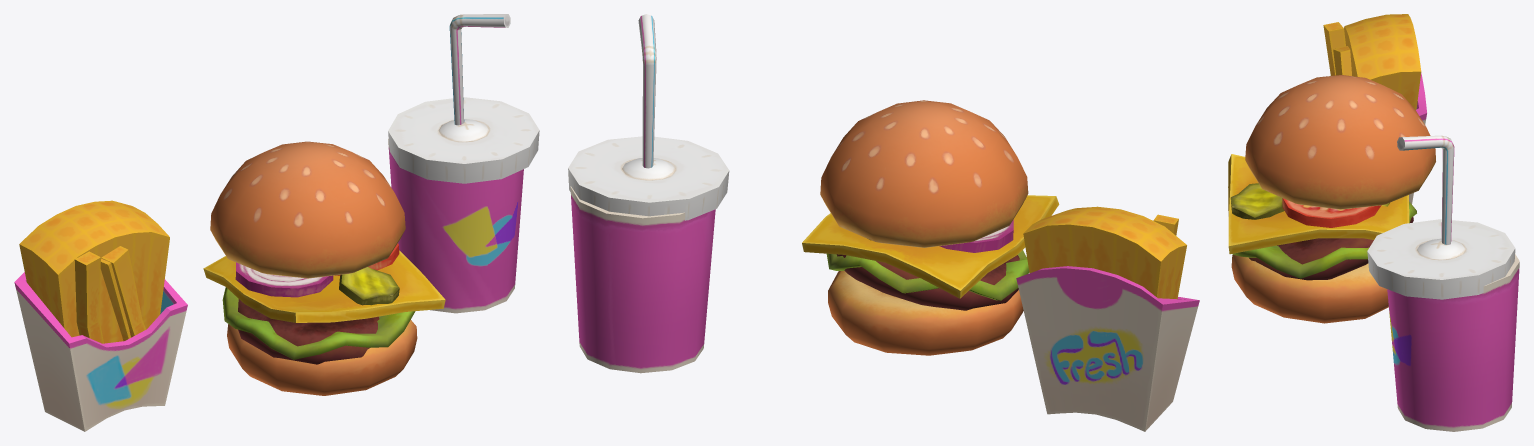
File: TestAR02.gltf
The picture shows the model from 3 angles, left to right: view 1: azimuth 30°, elevation 25°; view 2: azimuth 150°, elevation 25°; view 3: azimuth 270°, elevation 25°; orthographic projection. The views are drawn at different scales.
Parts seen in each view (by area): view 1: pBurger_Bun_Top, pCup_Main, pFries_Box, pFries_Main, pCup_Top, pBurger_Cheese, pBurger_Bun_Base, pBurger_Salad, pBurger_Patty, pFries_Single2, pCup_Straw, pBurger_Onion (+3 smaller); view 2: pBurger_Bun_Top, pFries_Box, pCup_Main, pCup_Top, pFries_Main, pBurger_Bun_Base, pBurger_Cheese, pBurger_Patty, pBurger_Salad, pCup_Straw, pBurger_Onion; view 3: pBurger_Bun_Top, pCup_Main, pCup_Top, pBurger_Bun_Base, pBurger_Cheese, pFries_Main, pBurger_Patty, pBurger_Salad, pCup_Straw, pBurger_Tomato, pBurger_Pickle2, pFries_Single2 (+2 smaller).
Boxes of the visible parts, x1,y1,x2,y2 form: pBurger_Bun_Top: (210, 141, 405, 278); pCup_Main: (388, 139, 523, 313); pFries_Box: (14, 272, 187, 431); pFries_Main: (19, 200, 169, 343); pCup_Top: (388, 97, 539, 183); pBurger_Cheese: (203, 250, 445, 322); pBurger_Bun_Base: (227, 320, 417, 395); pBurger_Salad: (222, 287, 415, 359); pBurger_Patty: (238, 299, 379, 364); pFries_Single2: (74, 251, 103, 343); pCup_Straw: (449, 14, 510, 125); pBurger_Onion: (235, 262, 333, 297); pBurger_Bun_Top: (820, 100, 1028, 247); pFries_Box: (1016, 266, 1199, 431); pCup_Main: (570, 186, 715, 373); pCup_Top: (568, 136, 729, 220); pFries_Main: (1023, 206, 1186, 299); pBurger_Bun_Base: (828, 271, 1023, 355); pBurger_Cheese: (802, 195, 1059, 298); pBurger_Patty: (836, 254, 1019, 310); pBurger_Salad: (826, 250, 1029, 300); pCup_Straw: (638, 14, 656, 168); pBurger_Onion: (939, 219, 1013, 252); pBurger_Bun_Top: (1245, 75, 1435, 209); pCup_Main: (1387, 254, 1519, 431); pCup_Top: (1367, 219, 1515, 299); pBurger_Bun_Base: (1231, 255, 1388, 323); pBurger_Cheese: (1228, 154, 1409, 254); pFries_Main: (1344, 14, 1421, 109); pBurger_Patty: (1249, 217, 1413, 280); pBurger_Salad: (1232, 201, 1416, 278); pCup_Straw: (1397, 135, 1454, 244); pBurger_Tomato: (1282, 198, 1381, 227); pBurger_Pickle2: (1230, 183, 1284, 219); pFries_Single2: (1323, 22, 1345, 75).
Bounding box in the file's own units: 0.0608 × 0.0316 × 0.0296.
Materials: 1 (1 with a texture image).
